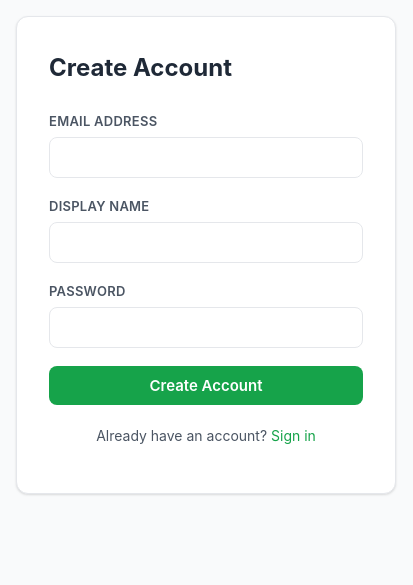
Test: RegisterPage › shows validation errors for invalid/empty inputs
Click the button "Create Account" at [206, 385], box [49,366,363,405]
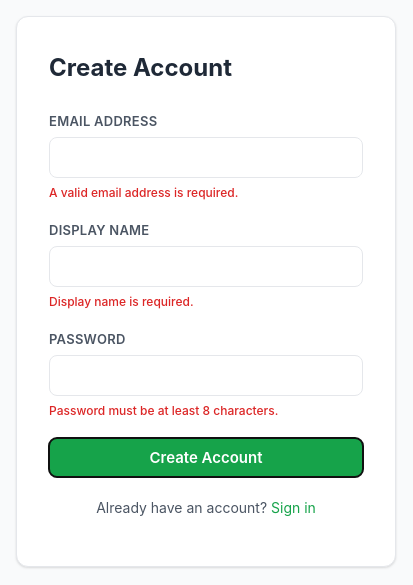
expect the text "A valid email address is required." is shown: met, box [49,185,238,200]
expect the text "Display name is required." is shown: met, box [49,294,194,309]
expect the text "Password must be at least 8 characters." is shown: met, box [49,403,278,418]
